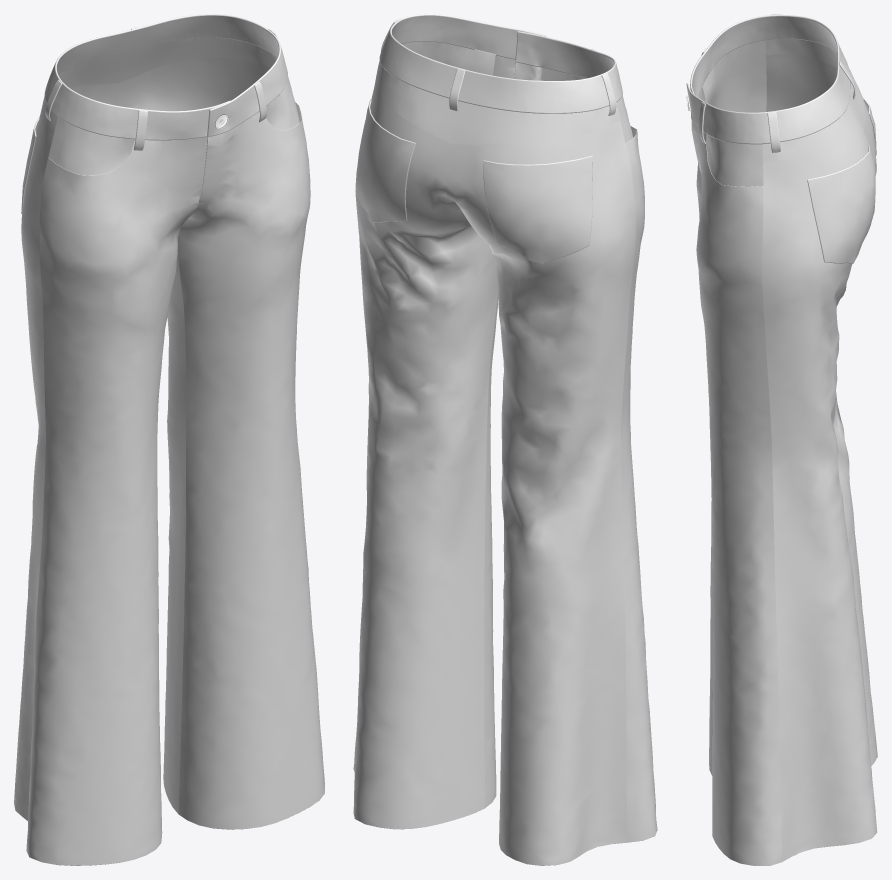
The model's file is FV2 Wide-Bell Pants_gltf_thick.glb.
3 views of the same model, side by side, from view 1: azimuth 30°, elevation 25°; view 2: azimuth 150°, elevation 25°; view 3: azimuth 270°, elevation 25° (orthographic). The views are drawn at different scales.
Visible parts, largest first — view 1: Cloth (×13); view 2: Cloth (×12); view 3: Cloth (×13).
Boxes of the visible parts, left/top/right/bottom form: Cloth (×13): left=14, top=14, right=324, bottom=865; Cloth (×12): left=353, top=14, right=657, bottom=865; Cloth (×13): left=686, top=14, right=877, bottom=865.
Size of the model in its own units: 41.84 by 104 by 24.43.
Materials: 1 (1 with a texture image).
